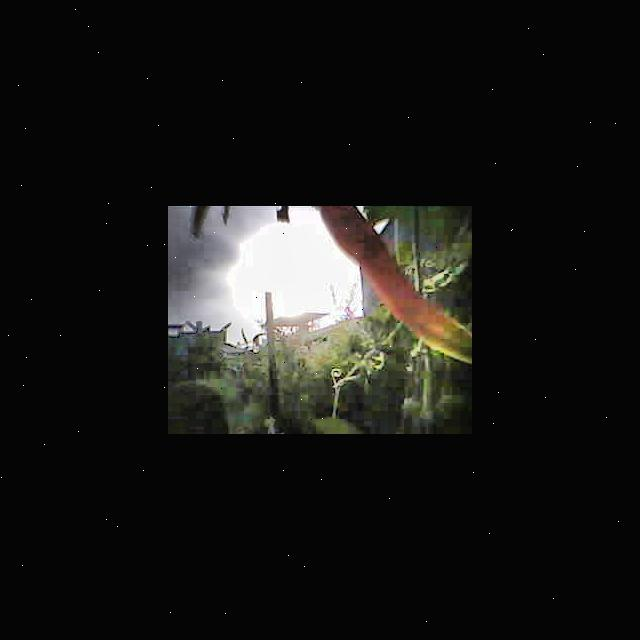Cabai: (323, 206, 401, 273)
